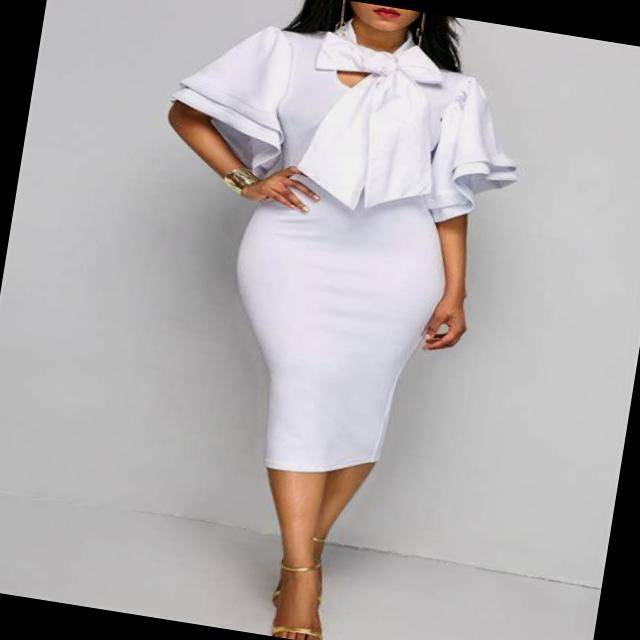dress: (116, 0, 534, 500)
